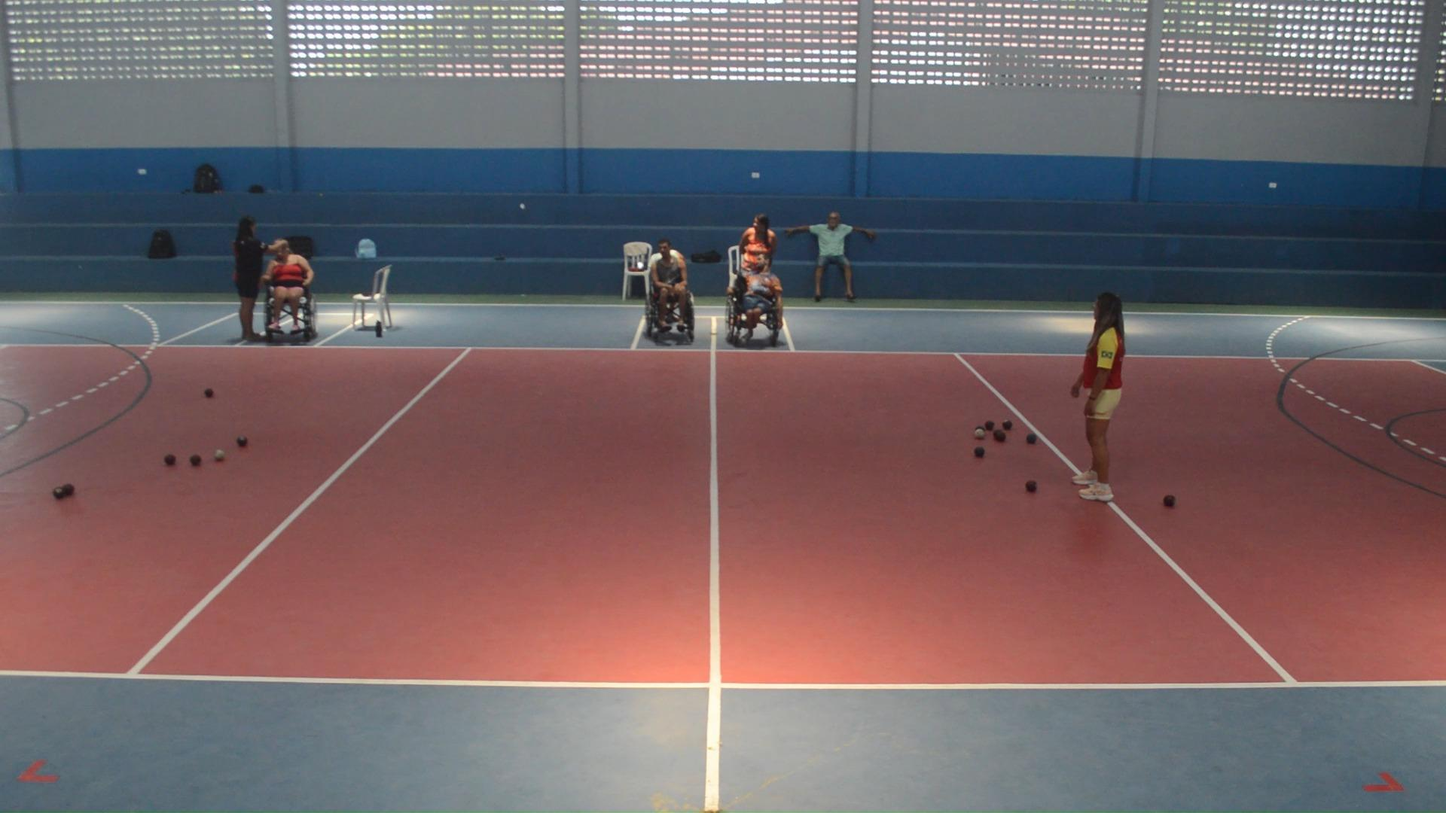blue_ball: (972, 445, 986, 460), (1025, 432, 1038, 446)
red_ball: (1160, 492, 1177, 509), (1023, 478, 1039, 494), (995, 430, 1007, 444), (991, 428, 1003, 441), (1001, 419, 1013, 431), (984, 419, 995, 431)
white_ball: (972, 427, 986, 442), (212, 448, 226, 462)
